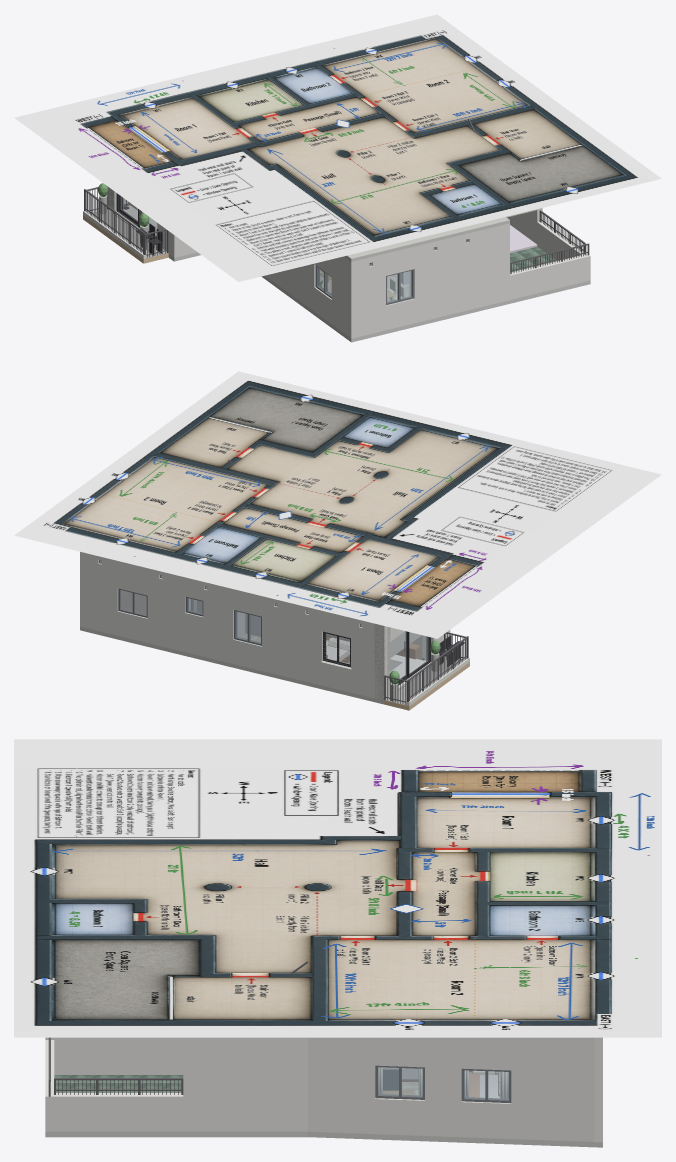
The model's file is MyFlat_V2_Room1_OPTION_B.glb.
3 views of the same model, one above another, from view 1: azimuth 30°, elevation 25°; view 2: azimuth 150°, elevation 25°; view 3: azimuth 270°, elevation 25° (orthographic). The views are drawn at different scales.
Parts seen in each view (by area): view 1: PLAN_REFERENCE_OVERLAY, WALL_EXT_S_HALL, WALL_EXT_W_HALL, PARAPET_OPENSQ_S, SLAB_FLOOR_STRUCTURAL, BALCONY_RAILING_W, SLAB_ROOF, PARAPET_OPENSQ_E, RAILING_OPENSQ_S, R1_OPB_BALCONY_FLOOR_FINISH, WALL_EXT_E_STAIR, HBB_OPENSQ_FINISH (+3 smaller); view 2: PLAN_REFERENCE_OVERLAY, WALL_EXT_N_R1, WALL_EXT_N_R2, WALL_EXT_N_KIT, WALL_EXT_N_B2, BALCONY_RAILING_W, SLAB_FLOOR_STRUCTURAL, PILLAR_R1_NW, R1_OPB_BALCONY_FLOOR_FINISH, R1_OPB_BALCONY_DOOR_FIXED_GLASS, R1_OPB_BALCONY_DOOR_SLIDER_GLASS, WINDOW_W2_GLASS (+1 smaller); view 3: PLAN_REFERENCE_OVERLAY, WALL_EXT_E_R2_TAPERED, WALL_EXT_E_STAIR, PARAPET_OPENSQ_E, WALL_INT_OPENSQ_W, SLAB_FLOOR_STRUCTURAL, HBB_OPENSQ_FINISH, WINDOW_W5_GLASS, WINDOW_W6_GLASS, RAILING_OPENSQ_E, WALL_EXT_N_R2, PARAPET_OPENSQ_S (+2 smaller).
Boxes of the visible parts, <box> form: PLAN_REFERENCE_OVERLAY: <box>14,14,661,281</box>; WALL_EXT_S_HALL: <box>348,223,509,338</box>; WALL_EXT_W_HALL: <box>265,256,356,338</box>; PARAPET_OPENSQ_S: <box>510,254,590,299</box>; SLAB_FLOOR_STRUCTURAL: <box>168,252,590,342</box>; BALCONY_RAILING_W: <box>84,189,145,254</box>; SLAB_ROOF: <box>344,217,509,261</box>; PARAPET_OPENSQ_E: <box>537,221,587,260</box>; RAILING_OPENSQ_S: <box>510,243,589,274</box>; R1_OPB_BALCONY_FLOOR_FINISH: <box>90,209,168,258</box>; WALL_EXT_E_STAIR: <box>507,208,542,244</box>; HBB_OPENSQ_FINISH: <box>510,246,556,272</box>; PLAN_REFERENCE_OVERLAY: <box>14,371,661,638</box>; WALL_EXT_N_R1: <box>283,601,387,700</box>; WALL_EXT_N_R2: <box>80,553,176,649</box>; WALL_EXT_N_KIT: <box>211,584,283,676</box>; WALL_EXT_N_B2: <box>177,575,211,658</box>; BALCONY_RAILING_W: <box>407,636,468,701</box>; SLAB_FLOOR_STRUCTURAL: <box>80,626,384,704</box>; PILLAR_R1_NW: <box>374,623,390,700</box>; R1_OPB_BALCONY_FLOOR_FINISH: <box>385,656,462,705</box>; R1_OPB_BALCONY_DOOR_FIXED_GLASS: <box>409,632,428,673</box>; R1_OPB_BALCONY_DOOR_SLIDER_GLASS: <box>390,631,406,678</box>; WINDOW_W2_GLASS: <box>236,611,260,642</box>; PLAN_REFERENCE_OVERLAY: <box>14,739,661,1037</box>; WALL_EXT_E_R2_TAPERED: <box>307,1037,594,1141</box>; WALL_EXT_E_STAIR: <box>183,1037,307,1131</box>; PARAPET_OPENSQ_E: <box>54,1093,183,1131</box>; WALL_INT_OPENSQ_W: <box>54,1037,183,1074</box>; SLAB_FLOOR_STRUCTURAL: <box>45,1131,602,1147</box>; HBB_OPENSQ_FINISH: <box>54,1075,183,1092</box>; WINDOW_W5_GLASS: <box>464,1070,508,1099</box>; WINDOW_W6_GLASS: <box>378,1067,422,1096</box>; RAILING_OPENSQ_E: <box>54,1078,183,1094</box>; WALL_EXT_N_R2: <box>594,1037,602,1142</box>; PARAPET_OPENSQ_S: <box>45,1040,54,1131</box>.
Size of what is drawn, in the model's own units: 18.03 by 4.33 by 16.55.
Materials: 128 (7 with a texture image).
